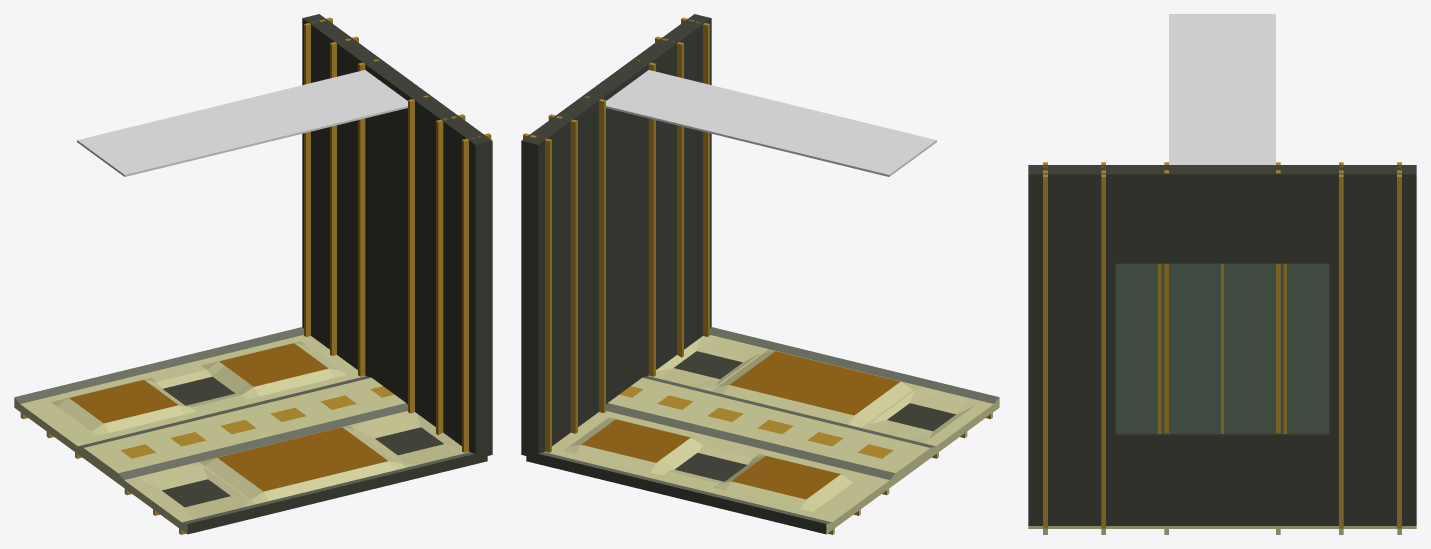
Rendered from environment.fbx.
3 views of the same model, side by side, from view 1: azimuth 30°, elevation 25°; view 2: azimuth 150°, elevation 25°; view 3: azimuth 270°, elevation 25° (orthographic). The views are drawn at different scales.
Parts seen in each view (by area): view 1: WallLeft, Floor, Lamp, WallLeftGate; view 2: WallLeft, Floor, Lamp, WallLeftGate; view 3: WallLeftGate, GateTop.001, GateTop, Lamp, WallLeft, Floor.
Boxes of the visible parts, x1,y1,x2,y2 form: WallLeft: [302, 16, 485, 458]; Floor: [14, 327, 487, 534]; Lamp: [77, 70, 407, 176]; WallLeftGate: [311, 14, 492, 456]; WallLeft: [528, 15, 711, 453]; Floor: [526, 327, 999, 534]; Lamp: [606, 70, 936, 176]; WallLeftGate: [521, 14, 701, 455]; WallLeftGate: [1028, 166, 1416, 528]; GateTop.001: [1115, 347, 1329, 433]; GateTop: [1115, 263, 1329, 348]; Lamp: [1169, 14, 1275, 164]; WallLeft: [1028, 162, 1416, 433]; Floor: [1028, 526, 1416, 534].
Size of the model in its own units: 3100 by 3100 by 3000.
